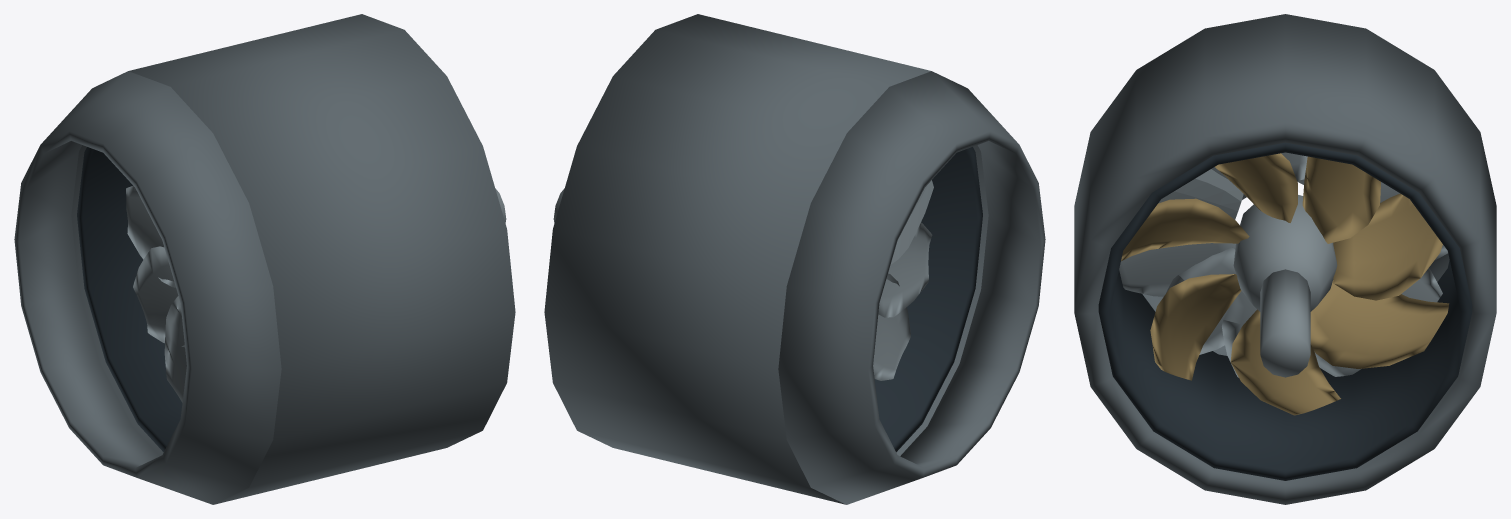
The model's file is US_PJ_Virginia_LOD2.fbx.
3 renders of one model, left to right at view 1: azimuth 30°, elevation 25°; view 2: azimuth 150°, elevation 25°; view 3: azimuth 270°, elevation 25°, orthographic. The views are drawn at different scales.
Visible parts, largest first — view 1: US_PJ_Virginia_LOD2_Housing.001, US_PJ_Virginia_LOD2_Nozzle.001, US_PJ_Virginia_LOD2_Lining.001, US_PJ_Virginia_LOD2_Stator_10.001, US_PJ_Virginia_LOD2_Stator_09.001, US_PJ_Virginia_LOD2_Stator_00.001; view 2: US_PJ_Virginia_LOD2_Housing.001, US_PJ_Virginia_LOD2_Nozzle.001, US_PJ_Virginia_LOD2_Lining.001, US_PJ_Virginia_LOD2_Stator_06.001, US_PJ_Virginia_LOD2_Stator_07.001, US_PJ_Virginia_LOD2_Stator_05.001; view 3: US_PJ_Virginia_LOD2_Housing.001, US_PJ_Virginia_LOD2_Lining.001, US_PJ_Virginia_LOD2_Rotor_06.001, US_PJ_Virginia_LOD2_Rotor_00.001, US_PJ_Virginia_LOD2_Hub.001, US_PJ_Virginia_LOD2_Rotor_04.001, US_PJ_Virginia_LOD2_Rotor_01.001, US_PJ_Virginia_LOD2_Shaft.001, US_PJ_Virginia_LOD2_Rotor_05.001, US_PJ_Virginia_LOD2_Rotor_03.001, US_PJ_Virginia_LOD2_Rotor_02.001, US_PJ_Virginia_LOD2_Stator_06.001 (+5 smaller).
Part boxes in pixels (x1,y1,x2,y2): US_PJ_Virginia_LOD2_Housing.001: [71, 14, 515, 504]; US_PJ_Virginia_LOD2_Nozzle.001: [14, 71, 281, 504]; US_PJ_Virginia_LOD2_Lining.001: [77, 147, 182, 452]; US_PJ_Virginia_LOD2_Stator_10.001: [133, 246, 184, 347]; US_PJ_Virginia_LOD2_Stator_09.001: [164, 296, 186, 402]; US_PJ_Virginia_LOD2_Stator_00.001: [126, 186, 175, 287]; US_PJ_Virginia_LOD2_Housing.001: [544, 14, 988, 504]; US_PJ_Virginia_LOD2_Nozzle.001: [778, 71, 1045, 504]; US_PJ_Virginia_LOD2_Lining.001: [874, 147, 982, 452]; US_PJ_Virginia_LOD2_Stator_06.001: [878, 222, 932, 317]; US_PJ_Virginia_LOD2_Stator_07.001: [873, 273, 910, 380]; US_PJ_Virginia_LOD2_Stator_05.001: [890, 180, 933, 264]; US_PJ_Virginia_LOD2_Housing.001: [1074, 14, 1496, 504]; US_PJ_Virginia_LOD2_Lining.001: [1098, 142, 1472, 480]; US_PJ_Virginia_LOD2_Rotor_06.001: [1310, 280, 1449, 368]; US_PJ_Virginia_LOD2_Rotor_00.001: [1333, 193, 1442, 300]; US_PJ_Virginia_LOD2_Hub.001: [1233, 195, 1337, 311]; US_PJ_Virginia_LOD2_Rotor_04.001: [1150, 274, 1241, 380]; US_PJ_Virginia_LOD2_Rotor_01.001: [1302, 156, 1380, 243]; US_PJ_Virginia_LOD2_Shaft.001: [1260, 269, 1310, 377]; US_PJ_Virginia_LOD2_Rotor_05.001: [1230, 309, 1340, 415]; US_PJ_Virginia_LOD2_Rotor_03.001: [1121, 198, 1249, 261]; US_PJ_Virginia_LOD2_Rotor_02.001: [1215, 153, 1297, 222]; US_PJ_Virginia_LOD2_Stator_06.001: [1119, 243, 1235, 296].
Bounding box in the file's own units: 578 × 570 × 570.
